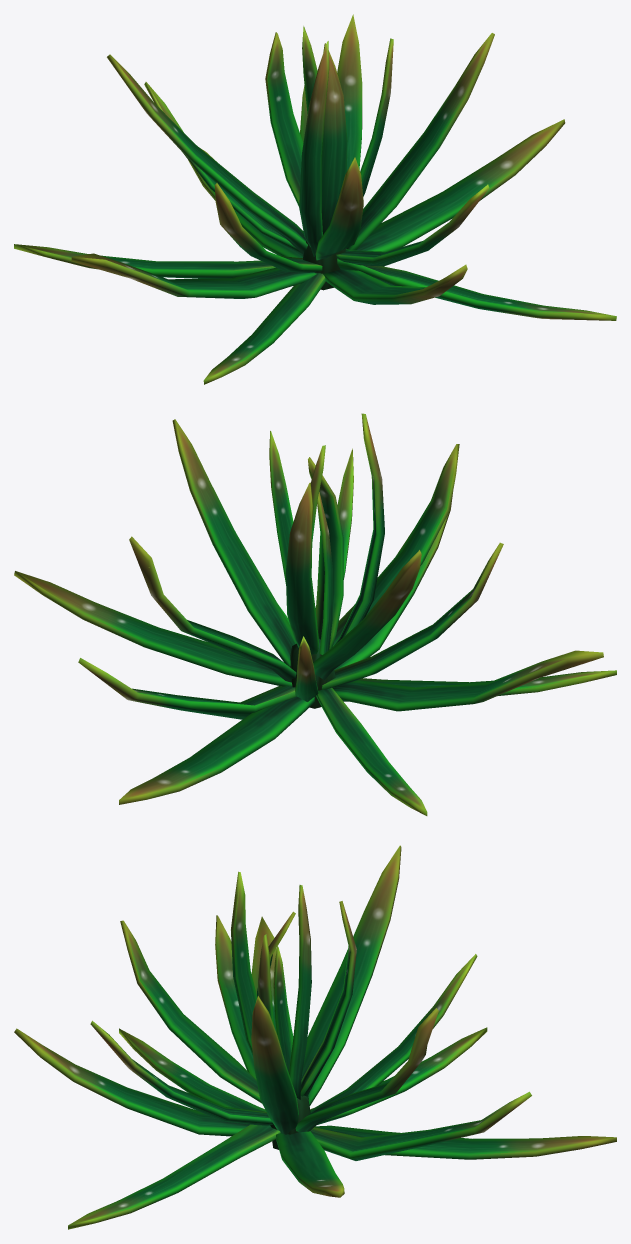
The model's file is pick.fbx.
3 renders of one model, top to bottom at view 1: azimuth 30°, elevation 25°; view 2: azimuth 150°, elevation 25°; view 3: azimuth 270°, elevation 25°, orthographic. The views are drawn at different scales.
Visible parts, largest first — view 1: LangeAloe_Normal_Muster; view 2: LangeAloe_Normal_Muster; view 3: LangeAloe_Normal_Muster.
Boxes of the visible parts, box(x1,y1,x2,y2) form: LangeAloe_Normal_Muster: box(14, 14, 616, 384); LangeAloe_Normal_Muster: box(14, 413, 616, 815); LangeAloe_Normal_Muster: box(14, 845, 616, 1229).
Size of the model in its own units: 670 by 327 by 666.
